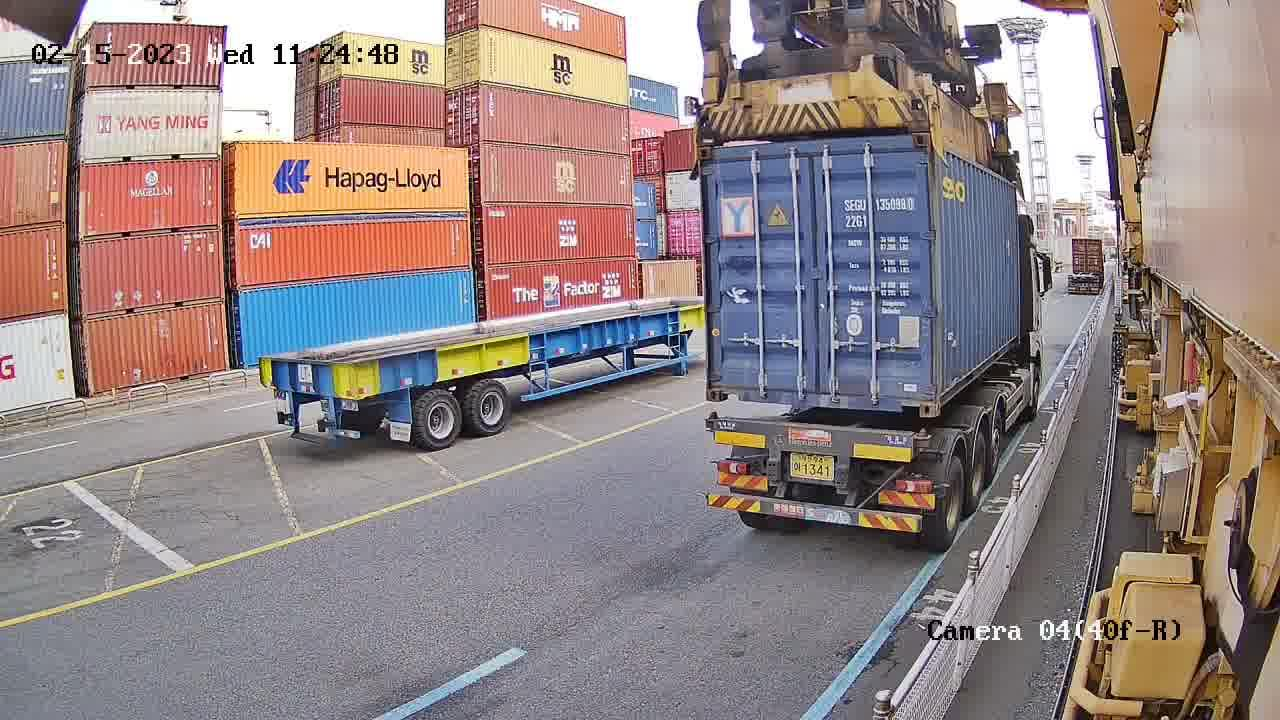Chassis: (708, 421, 916, 483)
Cone: (917, 425, 931, 447), (706, 410, 723, 428)
Hole_L: (705, 365, 740, 402)
Hole_R: (899, 373, 936, 418)
Tire: (938, 455, 965, 545), (966, 435, 988, 504), (989, 413, 1005, 478)
